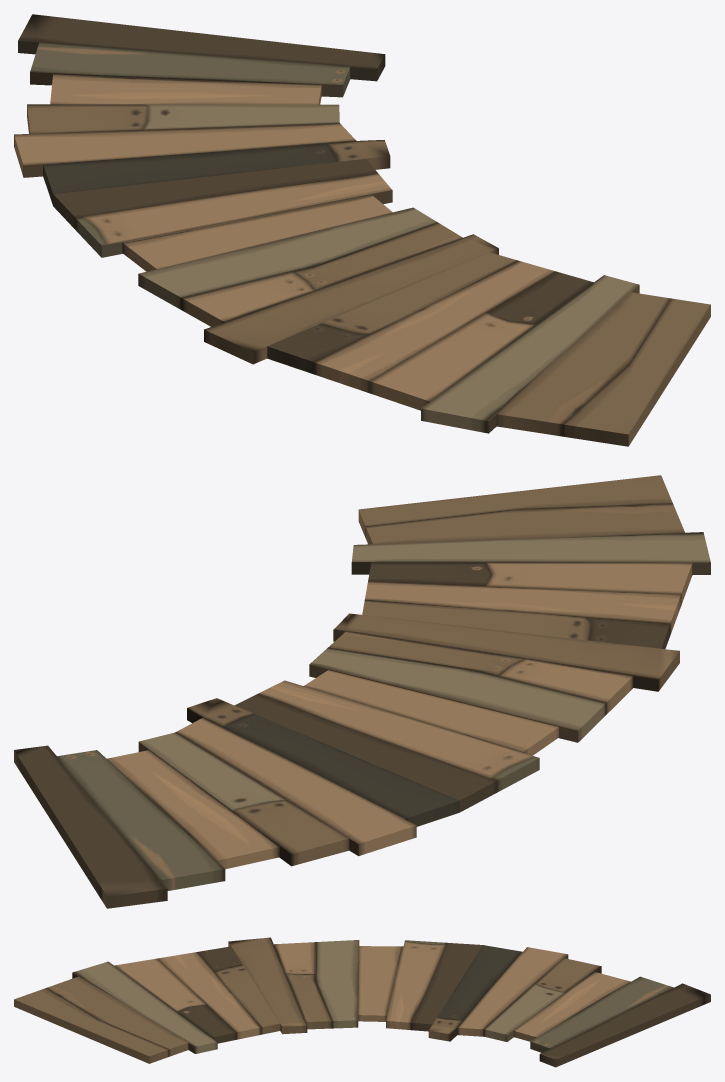
The model's file is SM_Bld_Dock_Round_02.fbx.
3 views of the same model, one above another, from view 1: azimuth 30°, elevation 25°; view 2: azimuth 150°, elevation 25°; view 3: azimuth 270°, elevation 25° (orthographic). The views are drawn at different scales.
Visible parts, largest first — view 1: SM_Bld_Dock_Round_02; view 2: SM_Bld_Dock_Round_02; view 3: SM_Bld_Dock_Round_02.
Part boxes in pixels (x1=…): SM_Bld_Dock_Round_02: x1=14, y1=14, x2=710, y2=446; SM_Bld_Dock_Round_02: x1=14, y1=475, x2=710, y2=908; SM_Bld_Dock_Round_02: x1=14, y1=937, x2=710, y2=1067.
Size of the model in its own units: 355 by 9.97 by 854.
1 material, 1 textured.
